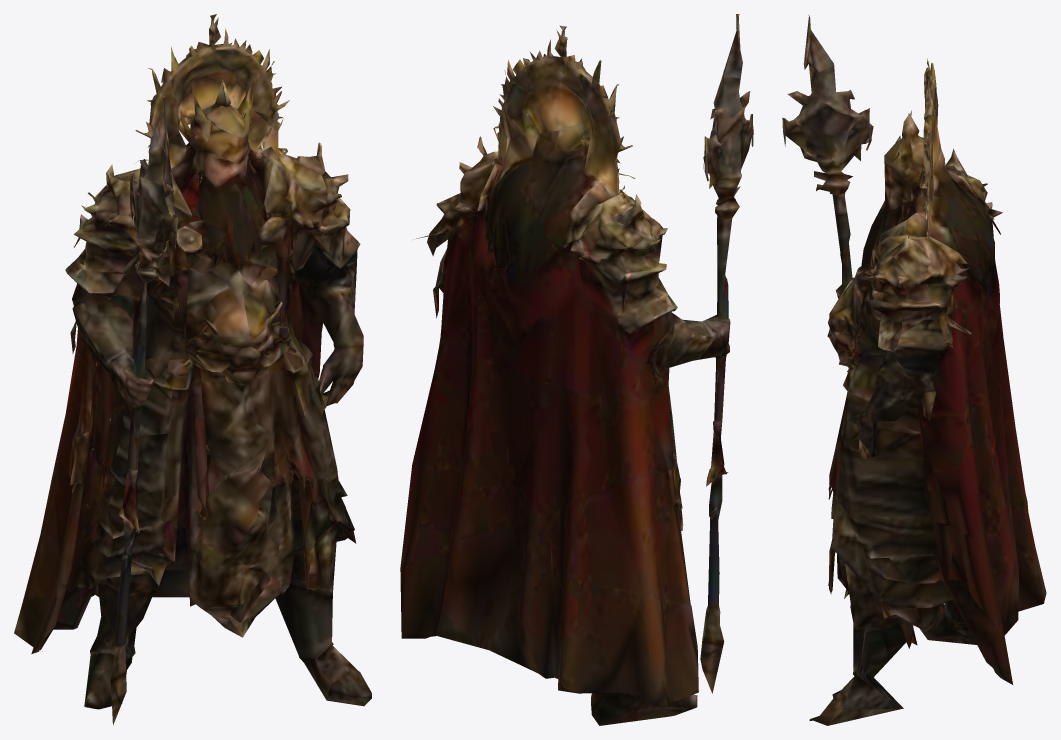
Rendered from mob_zhentian.glb.
3 views of the same model, side by side, from view 1: azimuth 30°, elevation 25°; view 2: azimuth 150°, elevation 25°; view 3: azimuth 270°, elevation 25° (orthographic). The views are drawn at different scales.
Visible parts, largest first — view 1: tripo_node_6f25e4f2-cacf-4737-b9e4-4acf7811206c; view 2: tripo_node_6f25e4f2-cacf-4737-b9e4-4acf7811206c; view 3: tripo_node_6f25e4f2-cacf-4737-b9e4-4acf7811206c.
Part boxes in pixels (x1=…): tripo_node_6f25e4f2-cacf-4737-b9e4-4acf7811206c: x1=14, y1=14, x2=371, y2=725; tripo_node_6f25e4f2-cacf-4737-b9e4-4acf7811206c: x1=400, y1=14, x2=753, y2=725; tripo_node_6f25e4f2-cacf-4737-b9e4-4acf7811206c: x1=782, y1=15, x2=1046, y2=725.
Size of the model in its own units: 0.4438 by 0.9655 by 0.371.
1 material, 1 textured.
